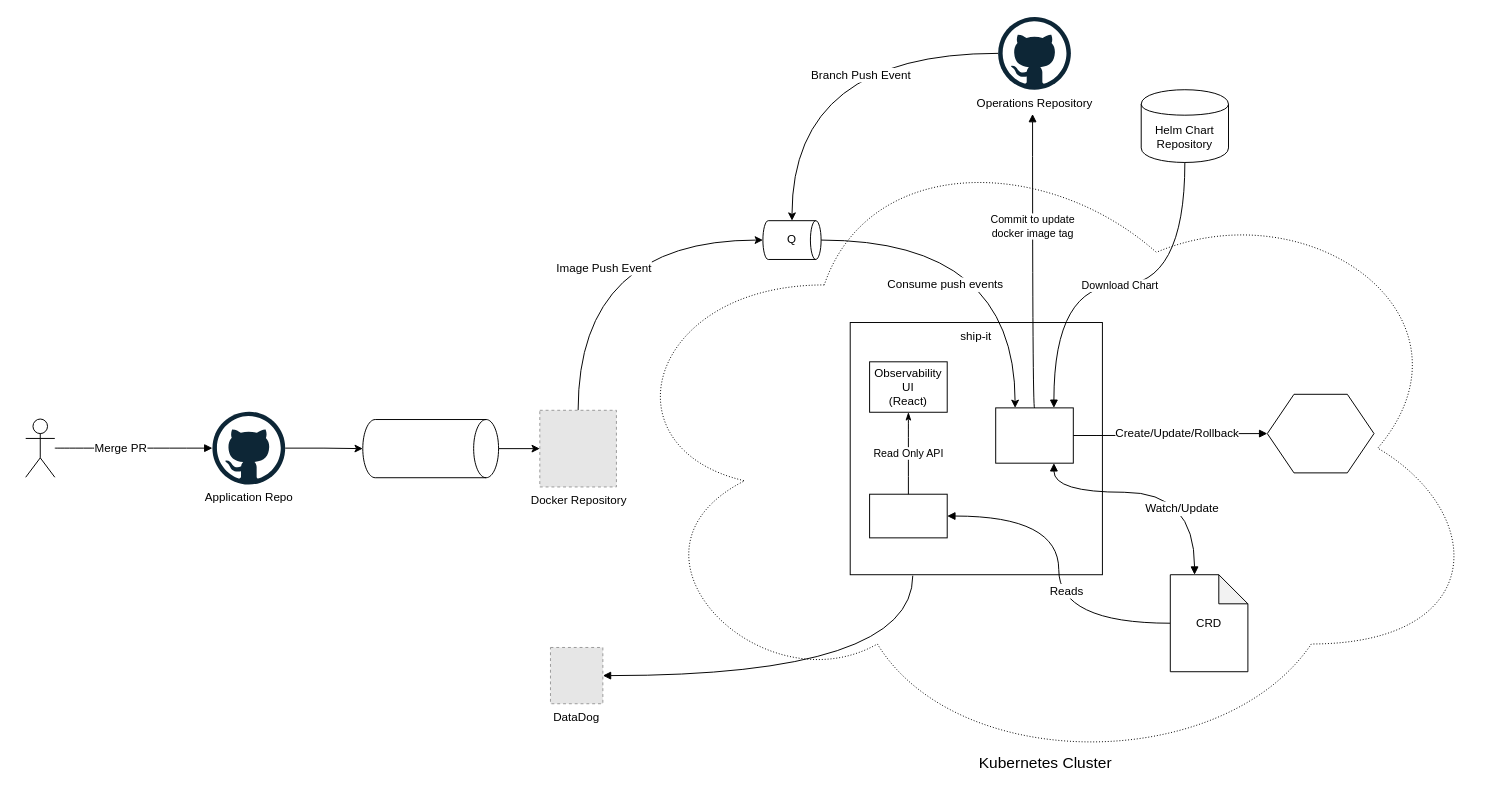
Image size: 1505x792. Some labels were removed from this diagram. Grey dashed boxes stand in for pictures. The box of each missing label's shape, as (x1, y1, x2, y2) in pixels:
API Server (Go): (869, 493, 947, 538)
CI Pipeline: (362, 419, 499, 478)
Engineer: (25, 418, 55, 477)
Helm Release: (1266, 393, 1374, 473)
K8s Operator (Go): (995, 407, 1073, 463)
